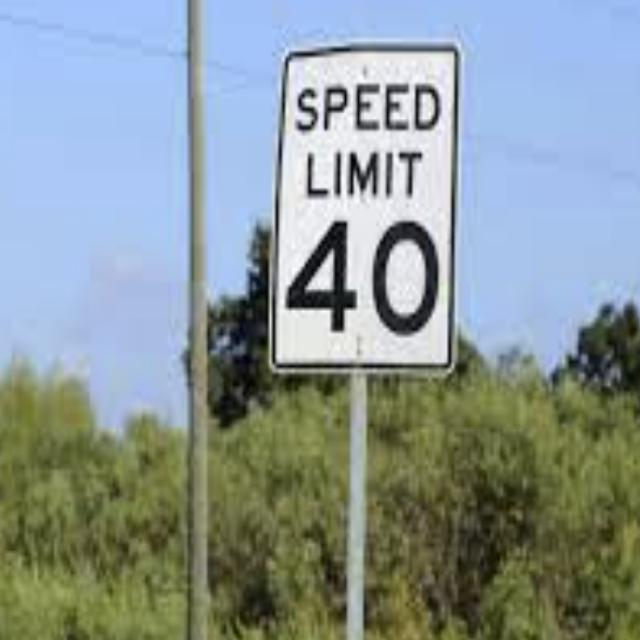speedLimit40: (280, 64, 448, 364)
